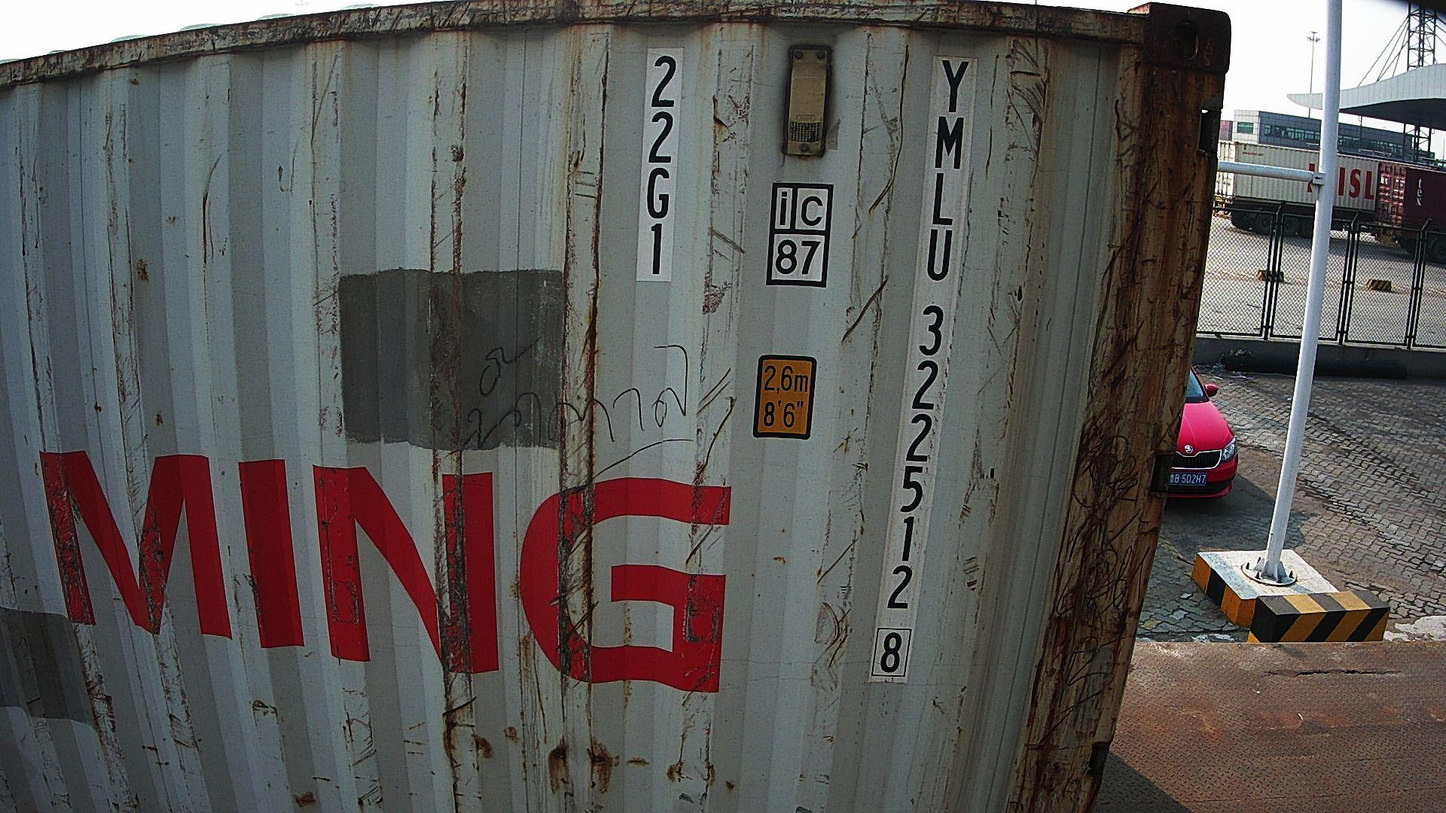container-numbers: (867, 53, 976, 685), (636, 47, 683, 285)
